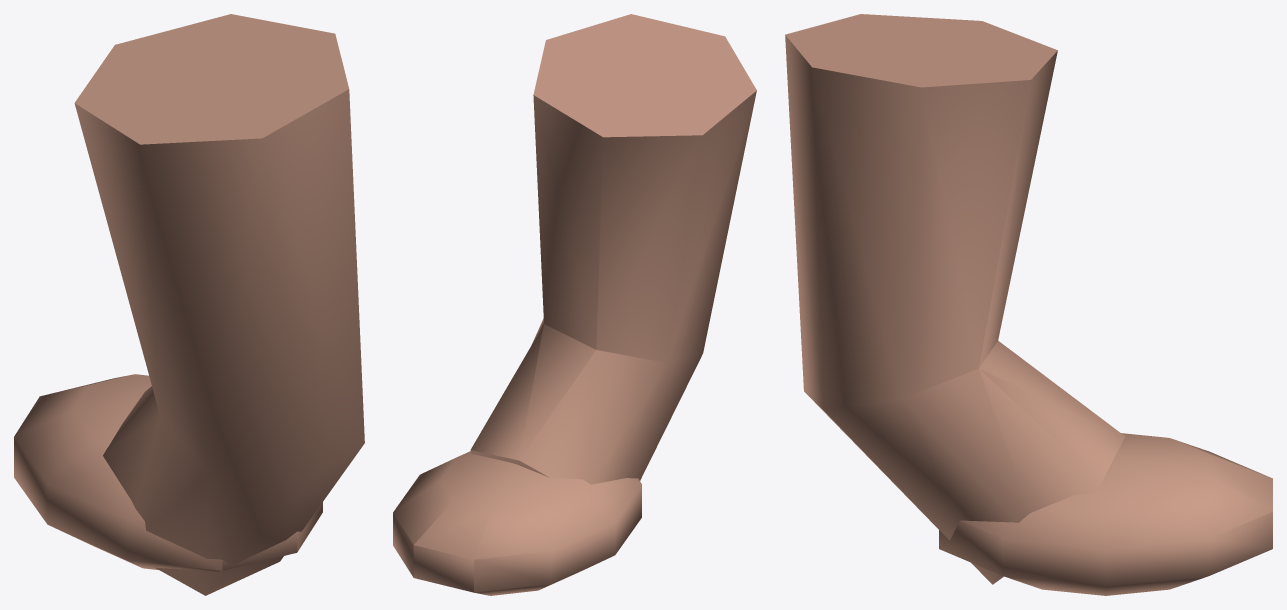
Rendered from gorehulk_b_leg_1.obj.
The picture shows the model from 3 angles, left to right: view 1: azimuth 30°, elevation 25°; view 2: azimuth 150°, elevation 25°; view 3: azimuth 270°, elevation 25°; orthographic projection. The views are drawn at different scales.
Parts seen in each view (by area): view 1: source_component_000, source_component_001; view 2: source_component_000, source_component_001; view 3: source_component_000, source_component_001.
Boxes of the visible parts, <box> form: source_component_000: <box>74,14,364,595</box>; source_component_001: <box>14,374,322,571</box>; source_component_000: <box>470,14,756,484</box>; source_component_001: <box>393,451,641,595</box>; source_component_000: <box>785,14,1125,584</box>; source_component_001: <box>939,433,1272,595</box>.
Size of the model in its own units: 0.2919 by 0.5576 by 0.4759.
